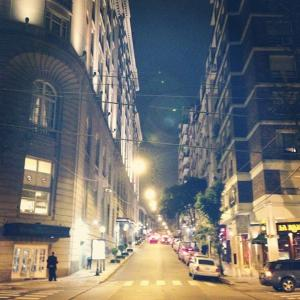Vehicle-registration-plate: (206, 269, 211, 272)
